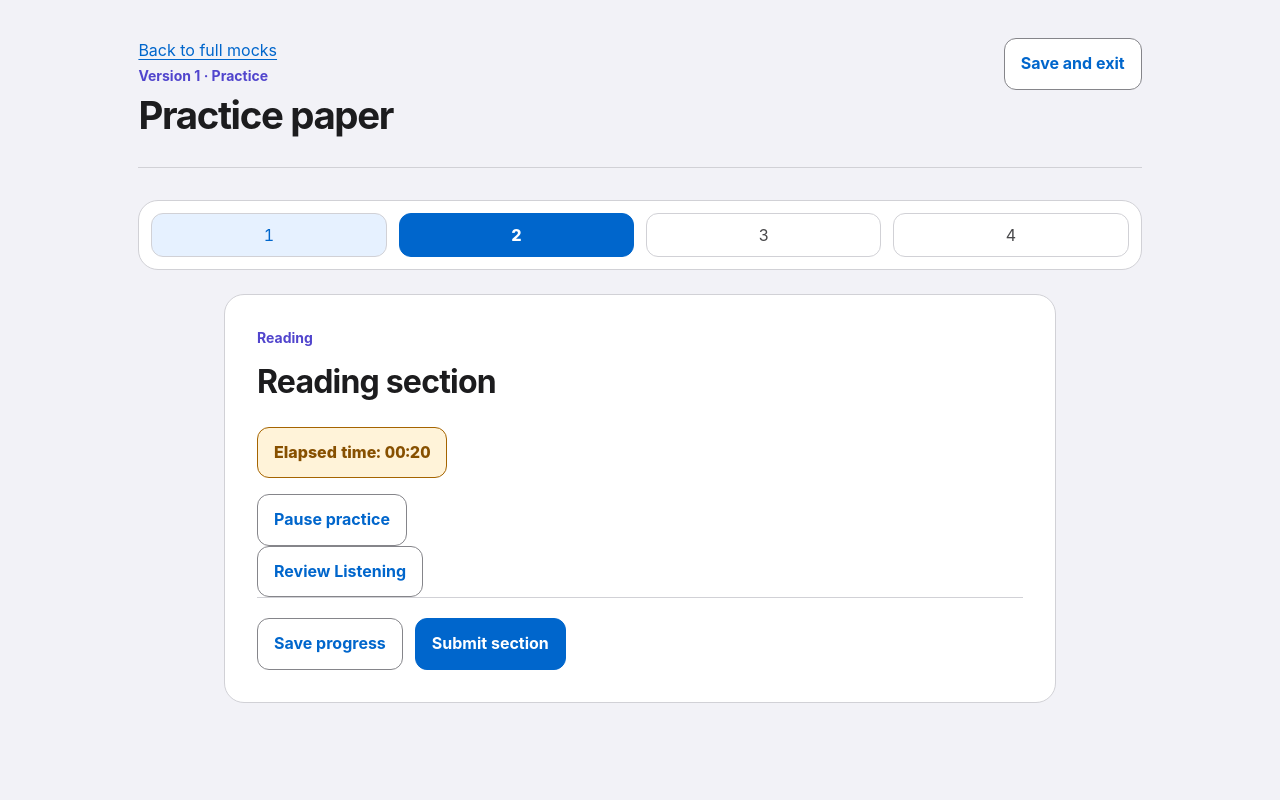
Scenario: IeltsMockDashboardCard › pauses a V3 practice attempt without submitting the current section
Click the button "Pause practice" at (332, 520), box [257,494,407,546]
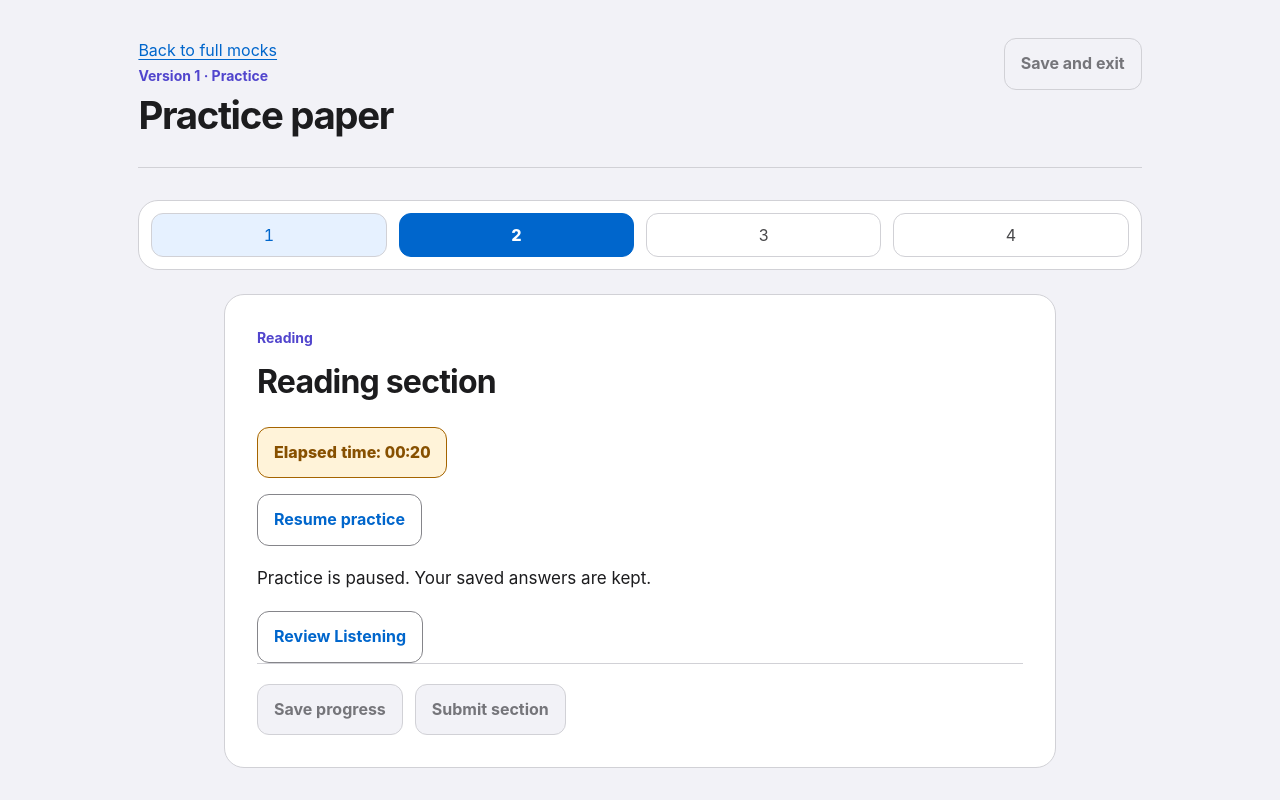
Expected: the text "Elapsed time: 00:20" is shown, [257,426,448,478]
Expected: the button "Resume practice" is shown, [257,494,422,546]
Expected: the button "Save progress" is disabled, [257,684,403,735]
